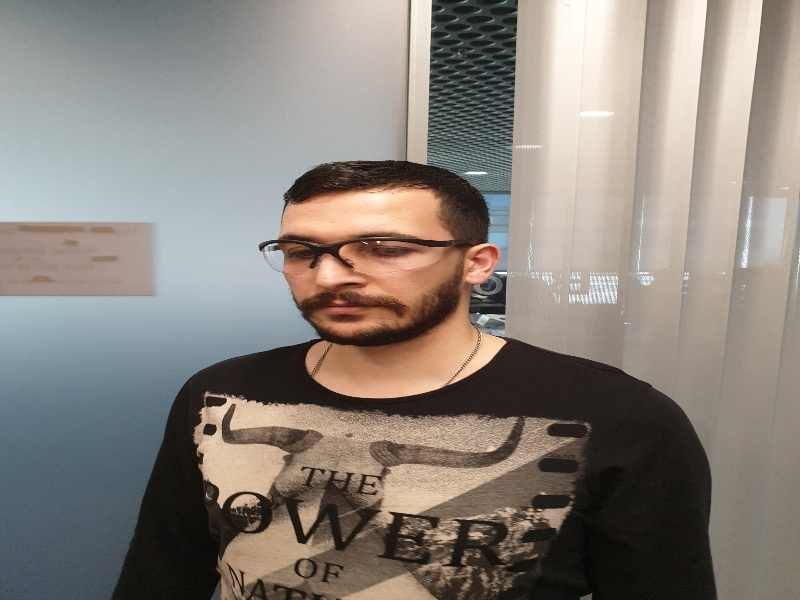Gozluk: (259, 235, 487, 269)
